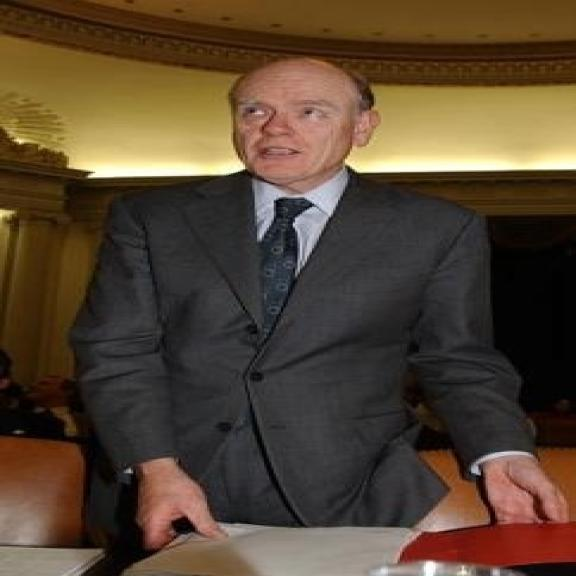face: (228, 58, 384, 188)
